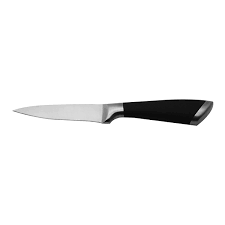kuchillu: (11, 94, 215, 136)
